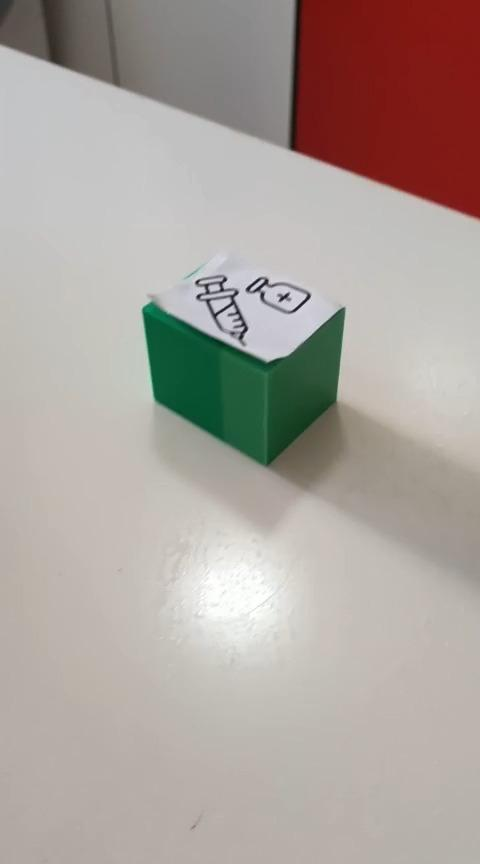antiseptic cream: (140, 249, 346, 467)
